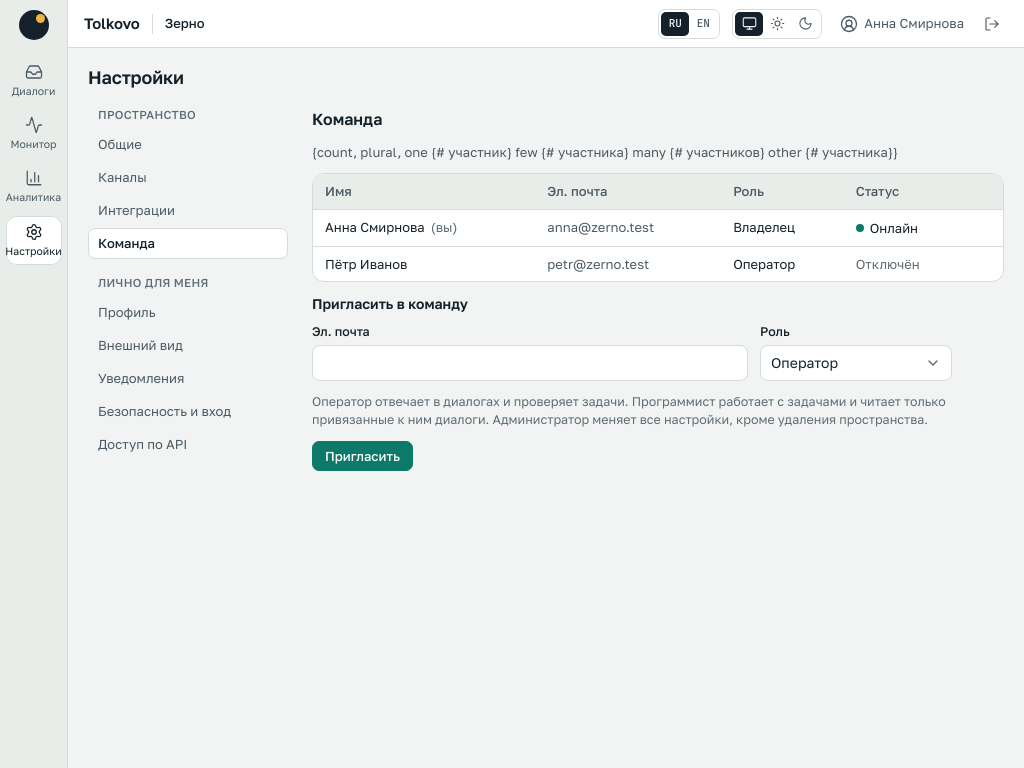
it: team invitations › puts an existing member error at the email field
This screenshot has width=1024, height=768.
In the field labelled "Эл. почта": [530, 363] box [312, 345, 748, 381], type "petr@zerno.test"
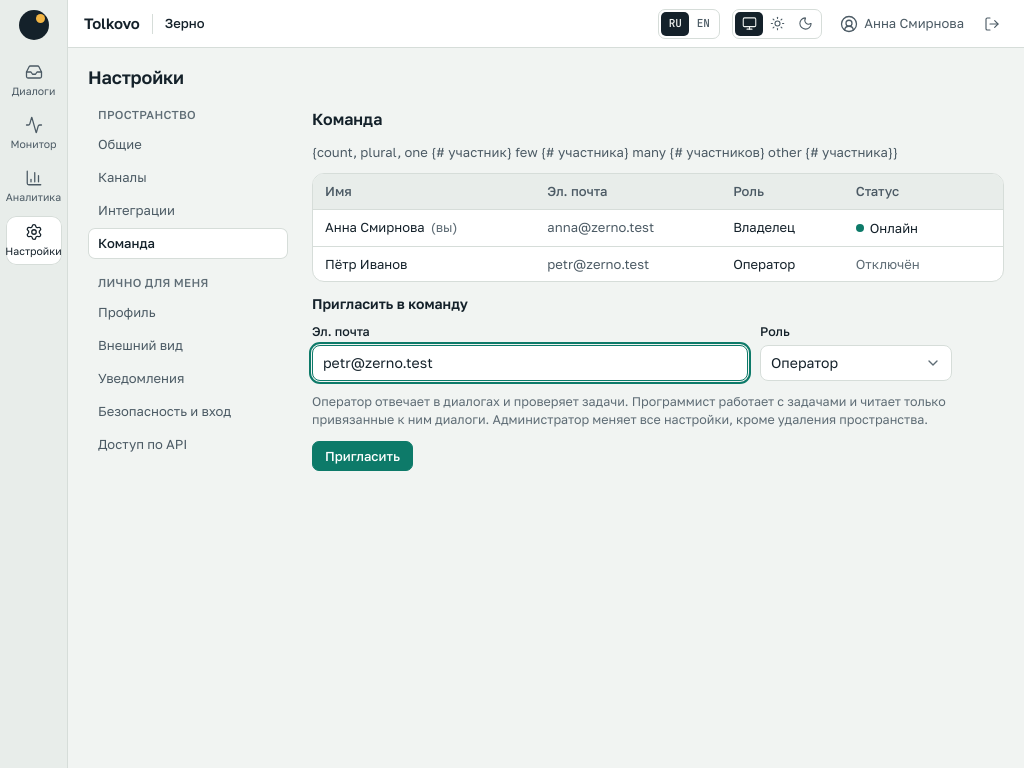
Click the button "Пригласить": [362, 456] box [312, 441, 413, 471]
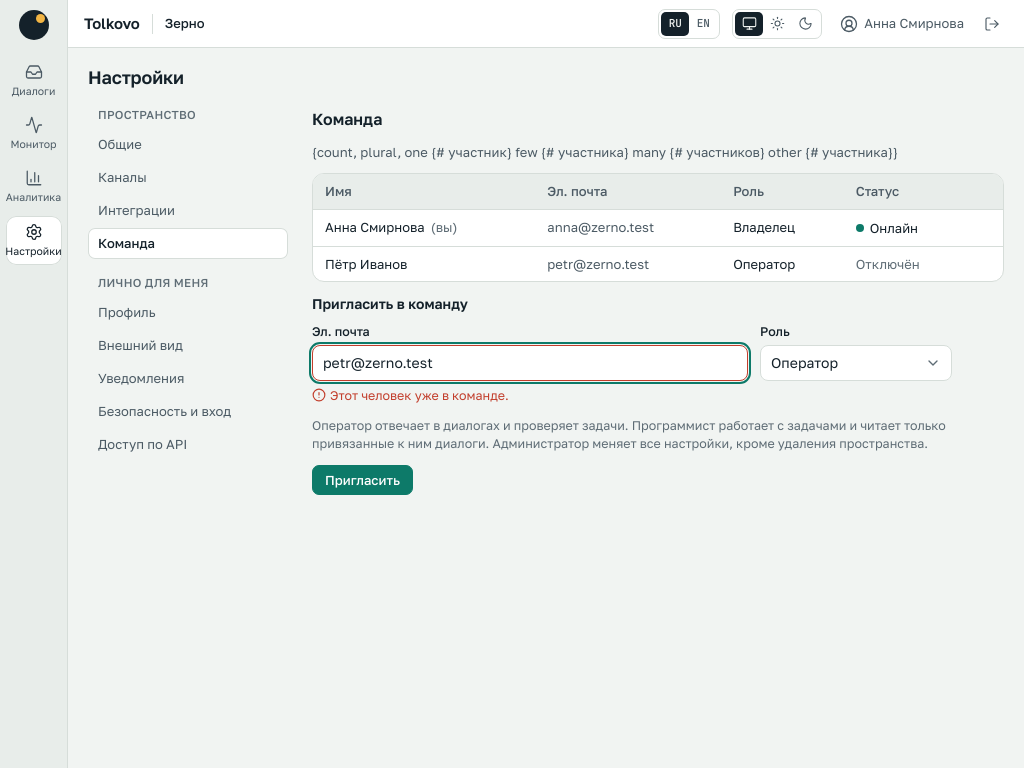
Expected: the text "Этот человек уже в команде." is shown, [312, 388, 509, 403]
